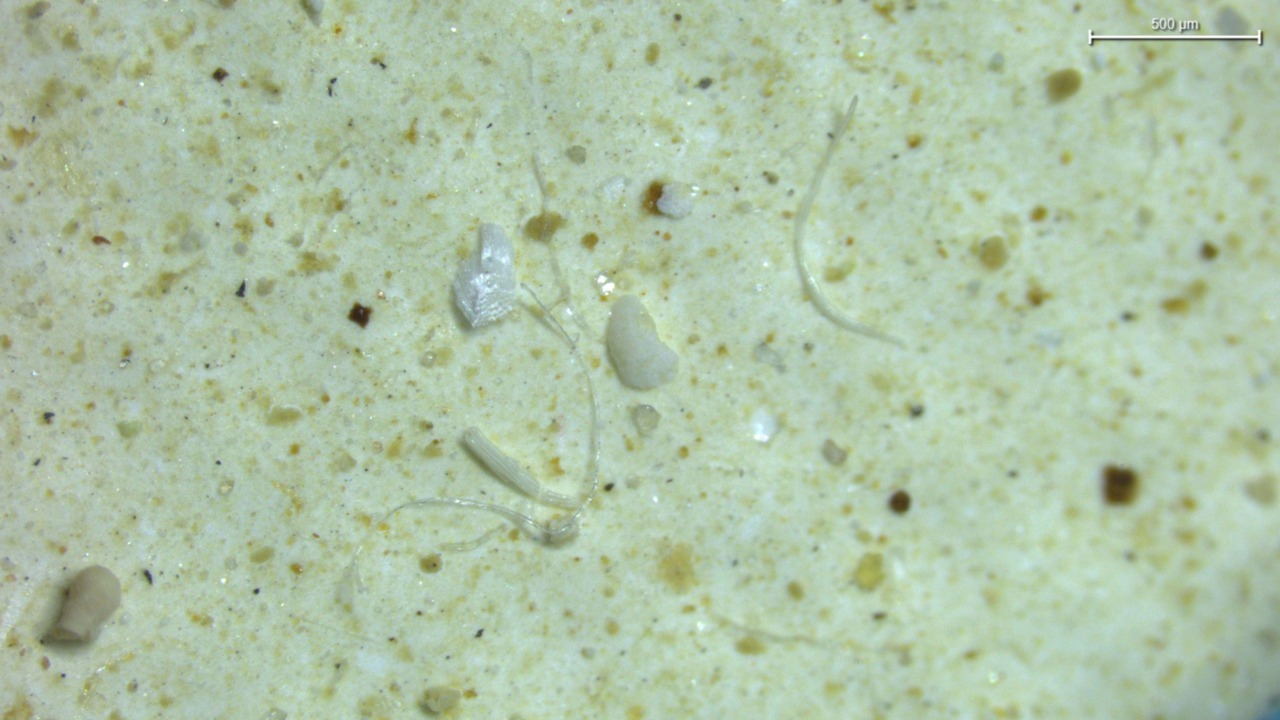microplastic_fragment: (605, 296, 677, 389), (453, 223, 516, 327), (41, 566, 121, 644), (656, 182, 695, 218)
